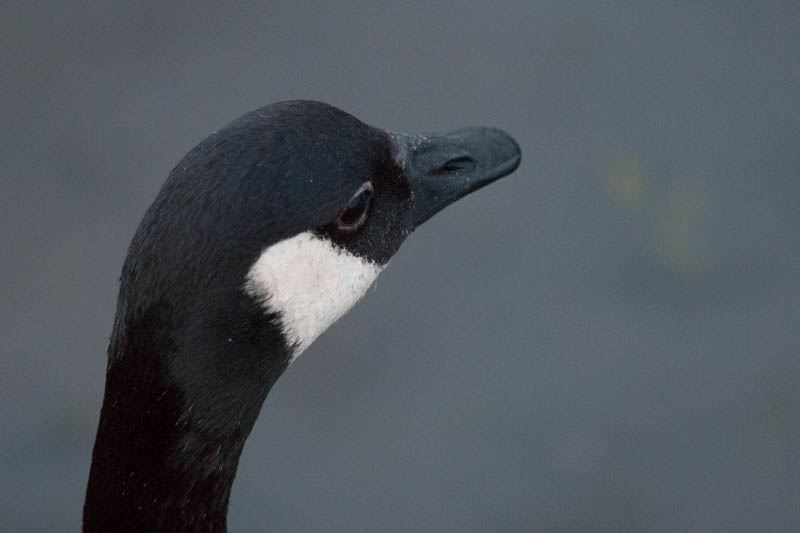goose-head: (106, 101, 521, 384)
